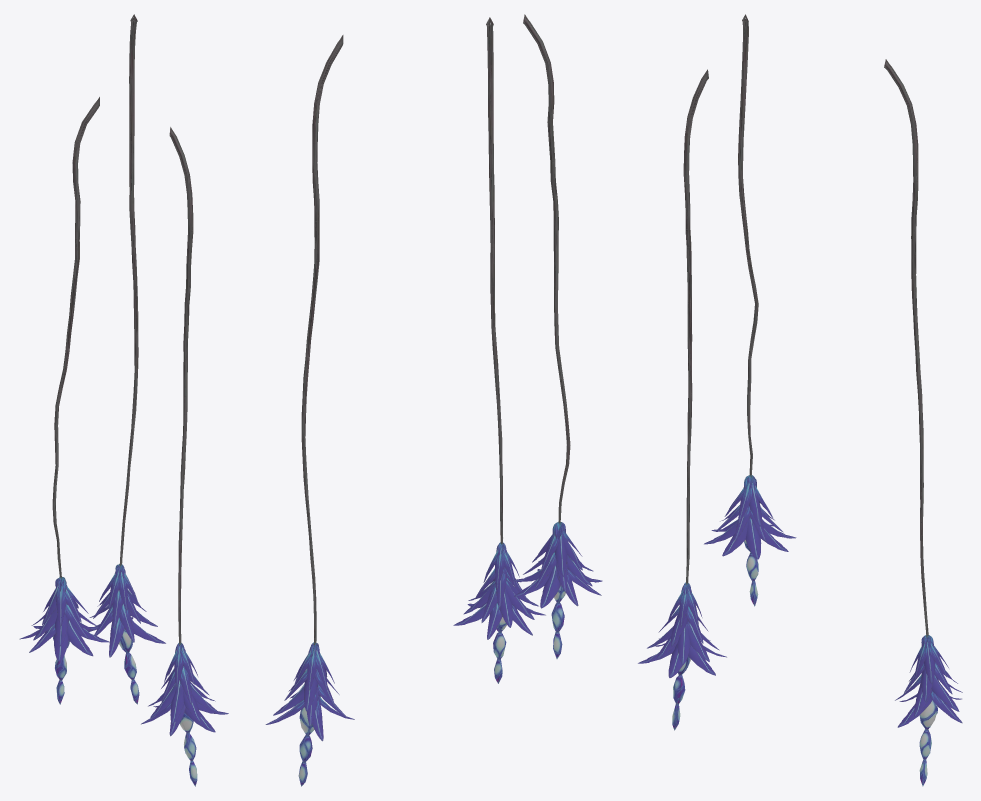
3 views of the same model, side by side, from view 1: azimuth 30°, elevation 25°; view 2: azimuth 150°, elevation 25°; view 3: azimuth 270°, elevation 25° (orthographic). The views are drawn at different scales.
Parts seen in each view (by area): view 1: SM_Hero_Tree_Flowers_05_LOD0; view 2: SM_Hero_Tree_Flowers_05_LOD0; view 3: SM_Hero_Tree_Flowers_05_LOD0.
Part boxes in pixels (x1,y1,x2,y2): SM_Hero_Tree_Flowers_05_LOD0: [19, 14, 228, 786]; SM_Hero_Tree_Flowers_05_LOD0: [265, 14, 602, 786]; SM_Hero_Tree_Flowers_05_LOD0: [638, 14, 962, 786].
Bounding box in the file's own units: 2.27 × 6.98 × 2.92.
1 material, 1 textured.
